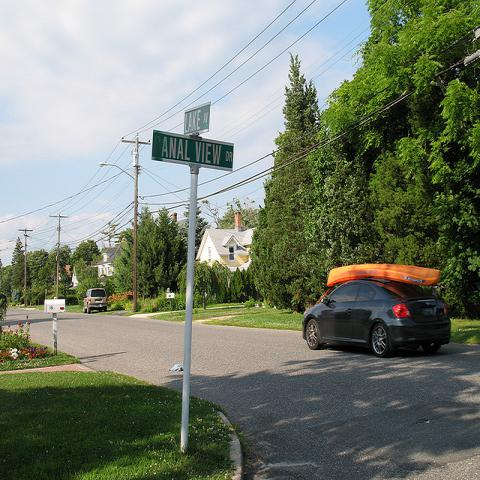car: (301, 279, 451, 357), (82, 288, 108, 314)
